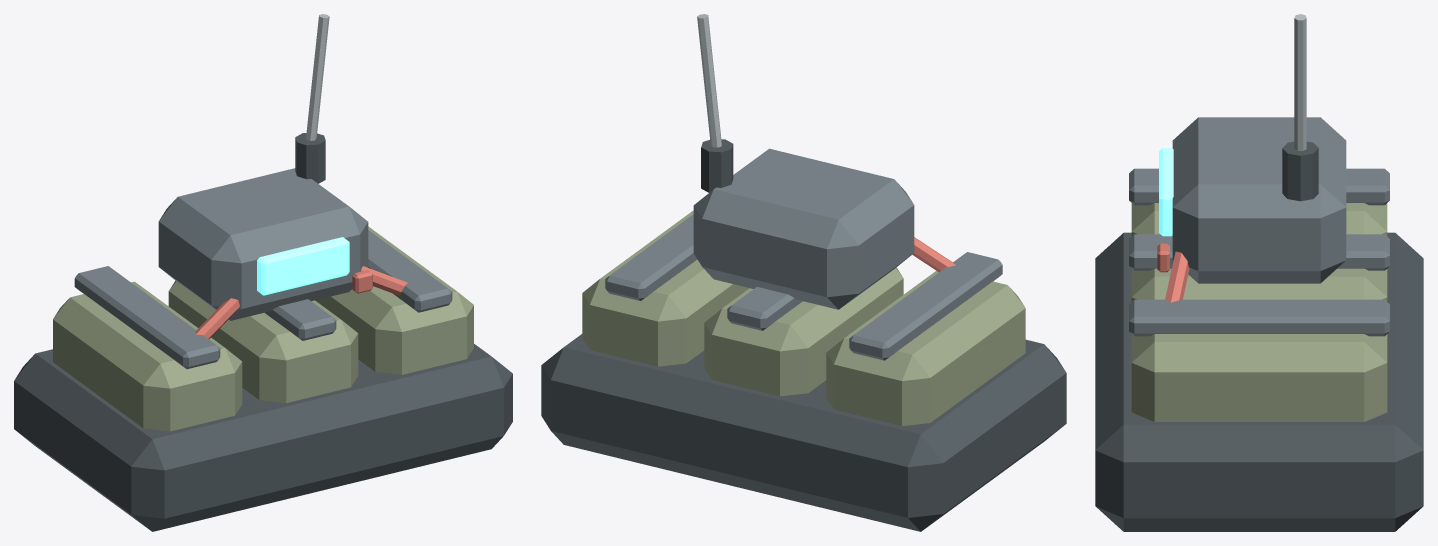
File: RemoteBomb.glb
The picture shows the model from 3 angles, left to right: view 1: azimuth 30°, elevation 25°; view 2: azimuth 150°, elevation 25°; view 3: azimuth 270°, elevation 25°; orthographic projection. The views are drawn at different scales.
Visible parts, largest first — view 1: StaticVisual; view 2: StaticVisual; view 3: StaticVisual.
Boxes of the visible parts, bbox=[...] form: StaticVisual: bbox=[14, 14, 512, 531]; StaticVisual: bbox=[541, 14, 1066, 531]; StaticVisual: bbox=[1095, 14, 1423, 531].
Bounding box in the file's own units: 0.56 × 0.5608 × 0.36.
